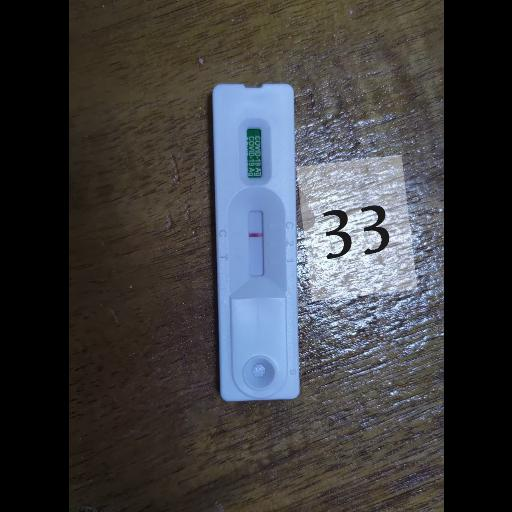Neg: (209, 82, 297, 398)
